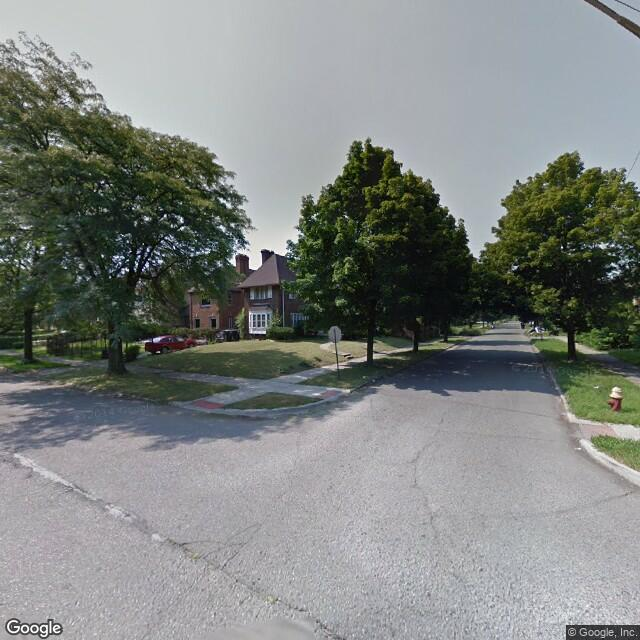litter: (117, 390, 124, 397), (592, 384, 601, 389), (369, 377, 376, 383), (574, 446, 582, 451)
